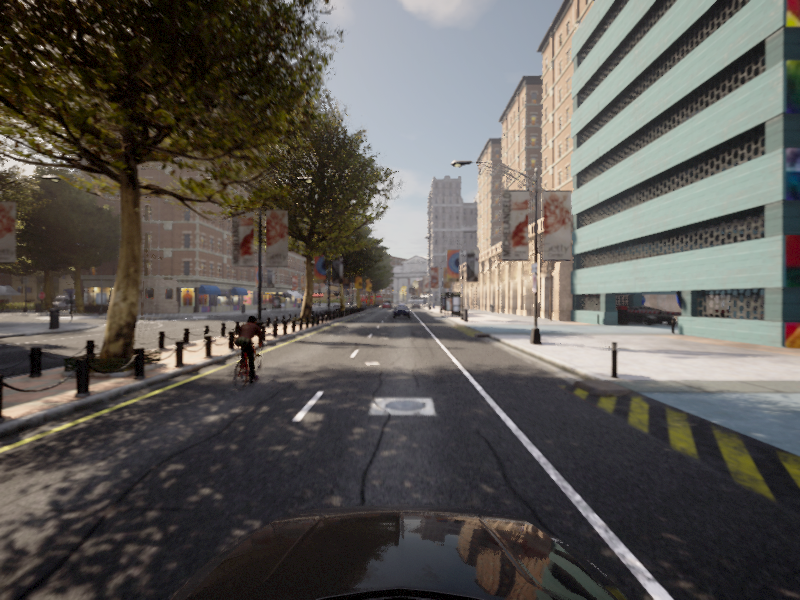vehicle: (220, 314, 273, 395), (393, 305, 410, 318)
